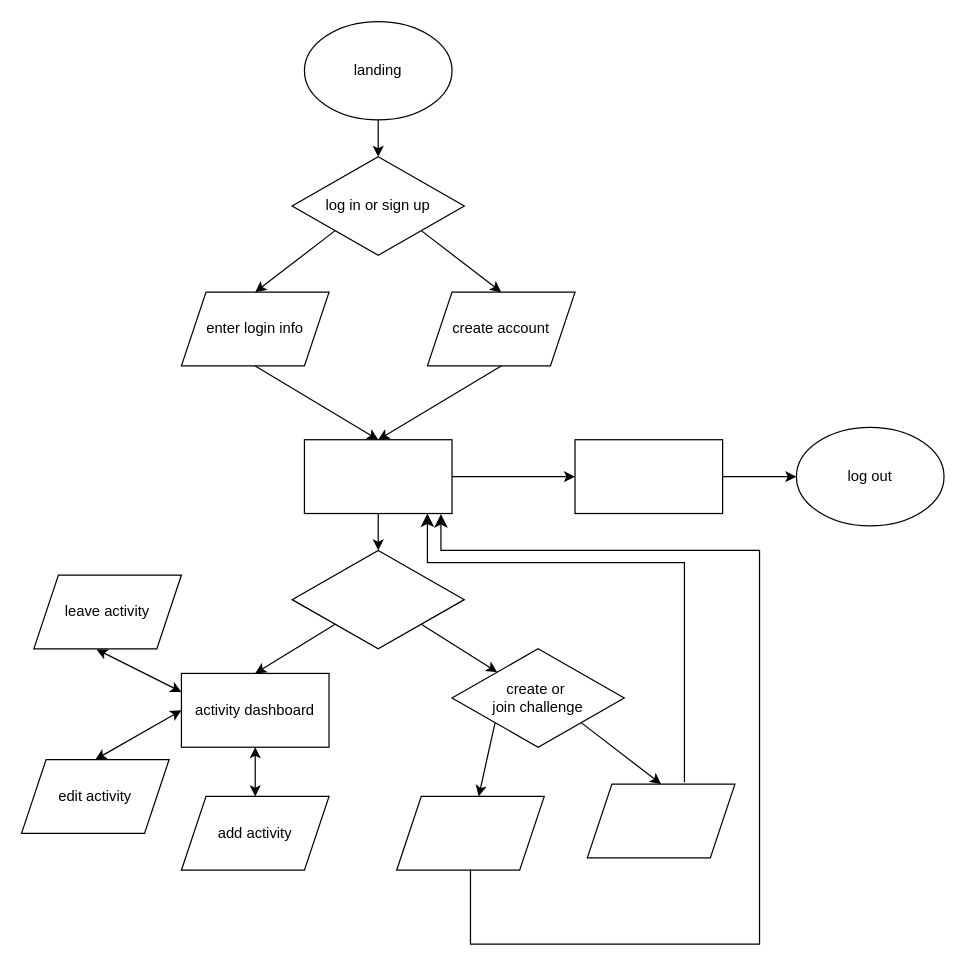
This 966x966 diagram has some shape labels left out. Each missing label, with the centre of its shape:
"enter join code" goes at point 469,832.
"main dashboard" goes at point 377,476.
"settings" goes at point 648,476.
"setup challenge" goes at point 660,820.
"view challenge or join challenge" goes at point 377,599.
